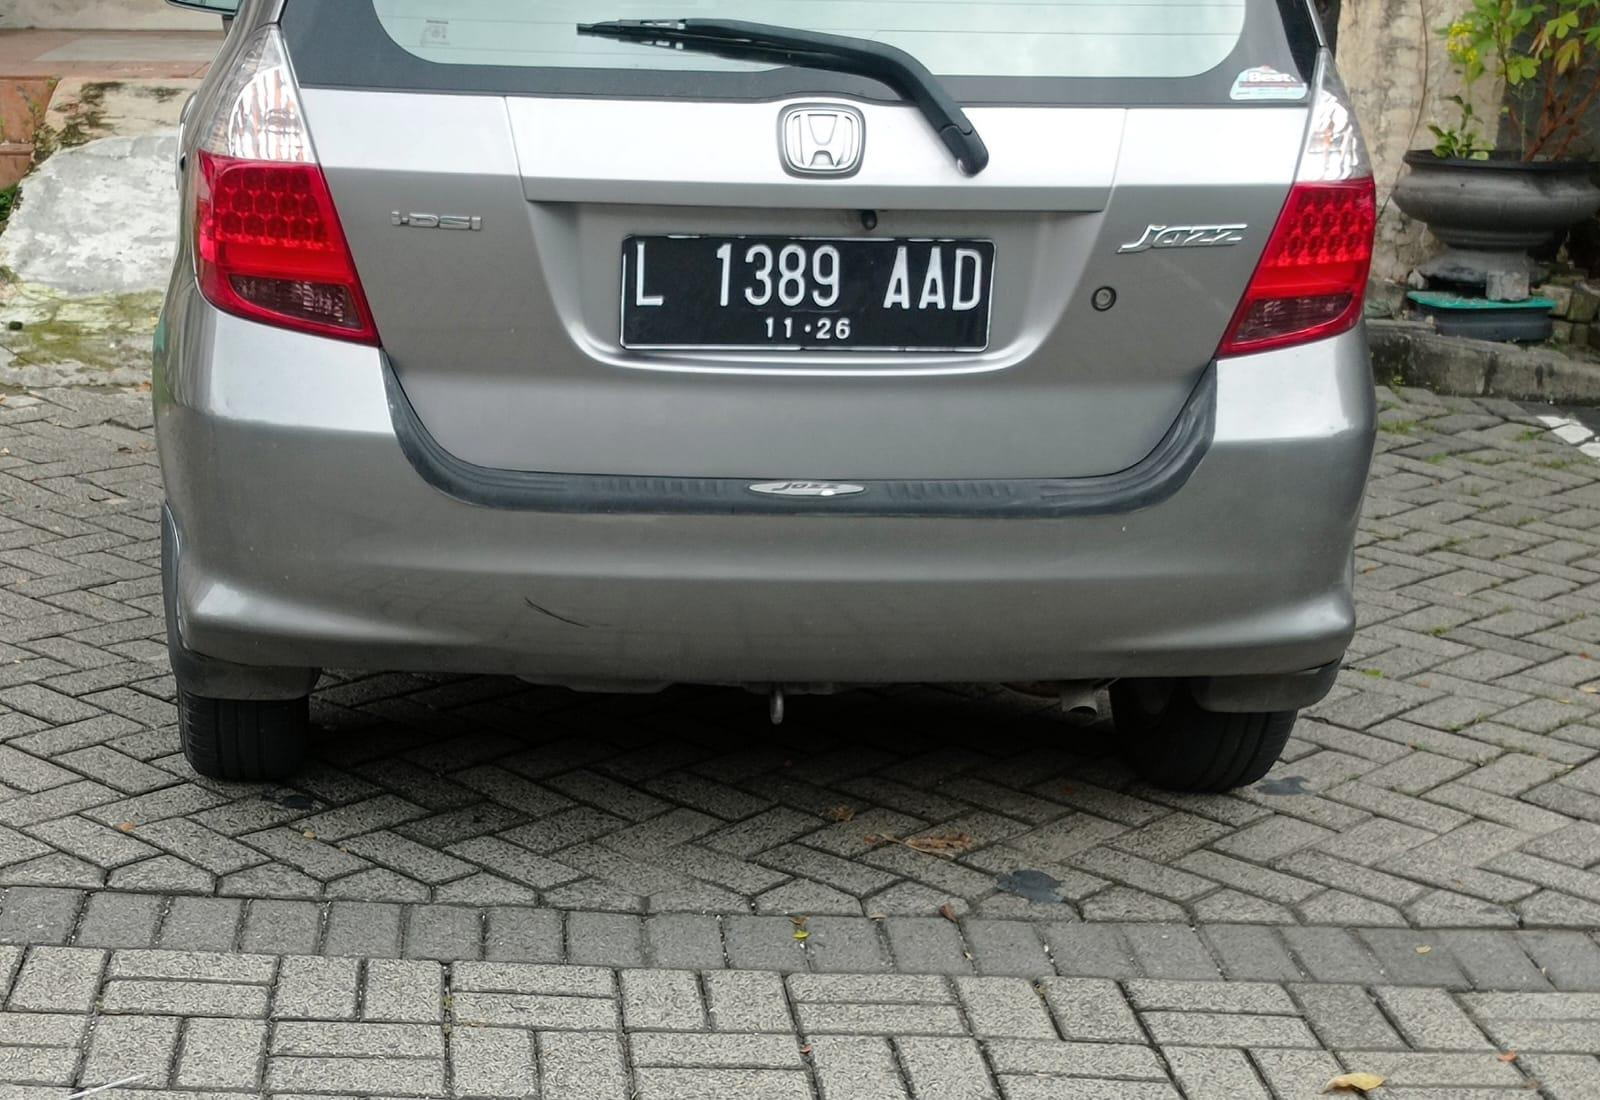plat: (621, 235, 993, 350)
